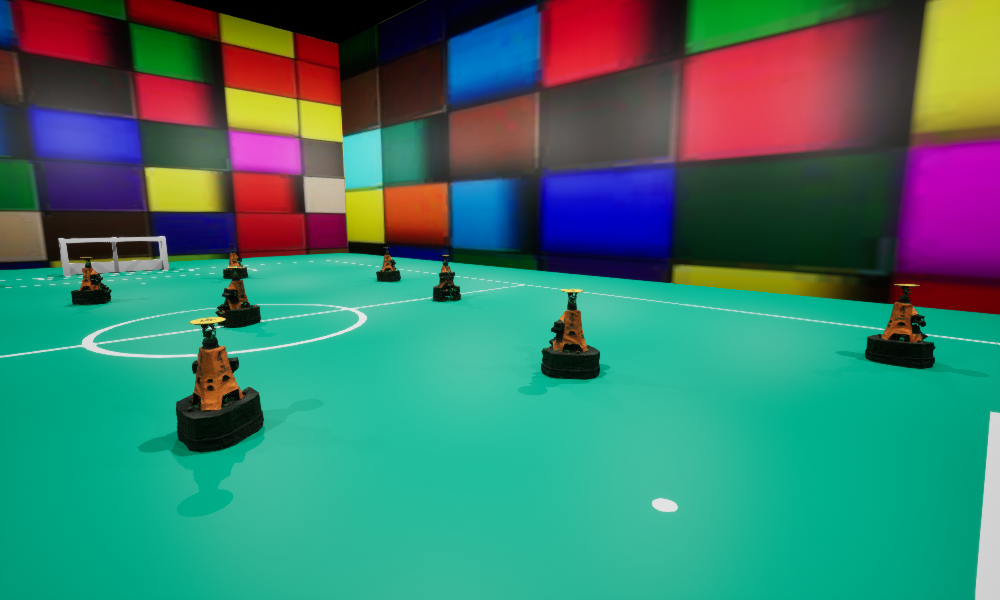0 orange robot TechUnited: (176, 317, 263, 452), (865, 284, 935, 368), (541, 289, 599, 379), (215, 267, 260, 326), (71, 257, 111, 304), (433, 255, 460, 301), (376, 247, 400, 281), (223, 246, 247, 278)
